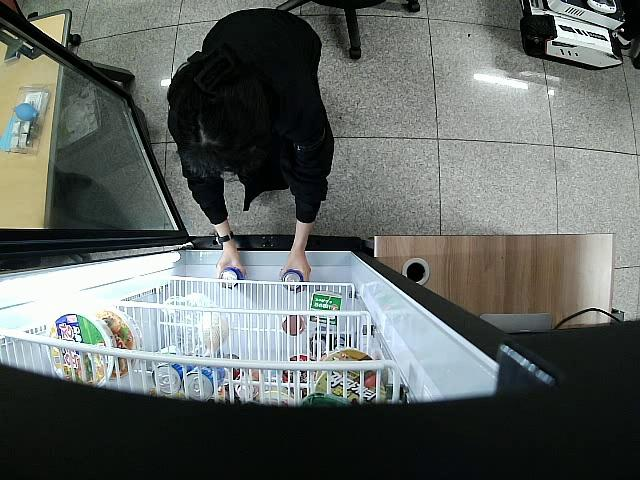00_hand: (279, 257, 312, 293), (214, 257, 246, 289)
13_pocariSweat: (281, 267, 303, 293), (219, 266, 242, 289)
